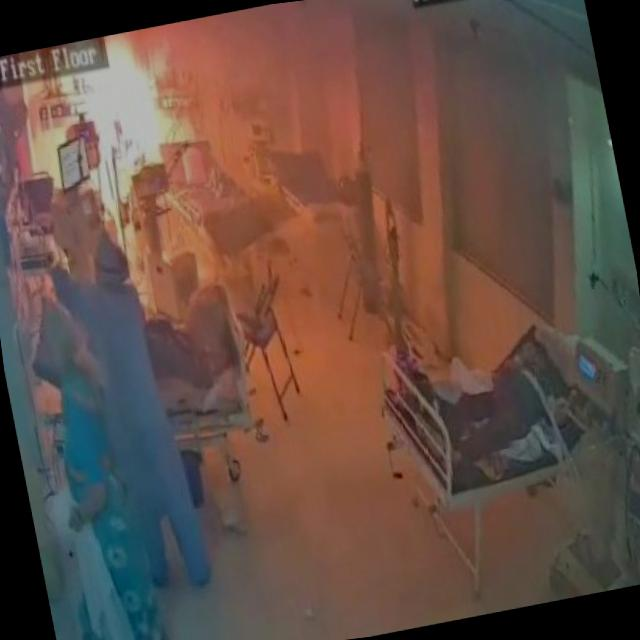fire: (36, 24, 235, 238)
